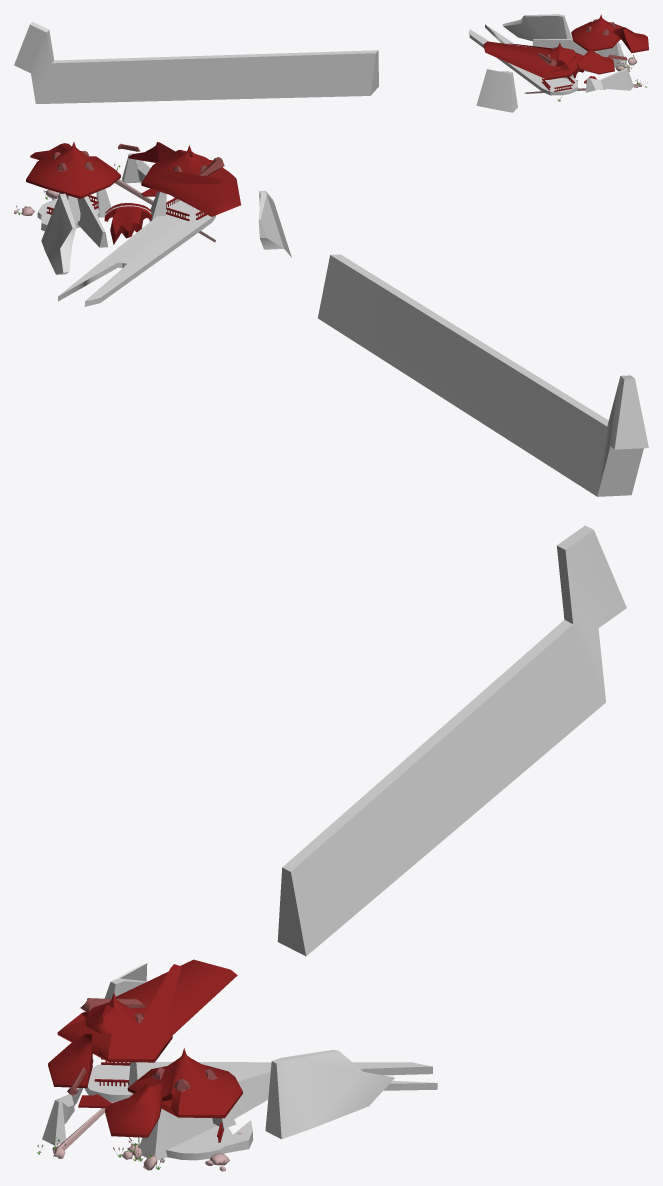
Rendered from pavilion_usethis.fbx.
The picture shows the model from 3 angles, top to bottom: view 1: azimuth 30°, elevation 25°; view 2: azimuth 150°, elevation 25°; view 3: azimuth 270°, elevation 25°; orthographic projection. The views are drawn at different scales.
Visible parts, largest first — view 1: polySurface111, polySurface288, polySurface70, polySurface108, polySurface106, polySurface290, polySurface69, polySurface109, polySurface289, polySurface291; view 2: polySurface111, polySurface106, polySurface288, polySurface290, polySurface70, polySurface108, polySurface165, polySurface69, polySurface109, polySurface289; view 3: polySurface111, polySurface288, polySurface70, polySurface290, polySurface106, polySurface69, polySurface291, polySurface66, polySurface289, polySurface109.
Boxes of the visible parts, x1,y1,x2,y2 form: polySurface111: (14, 21, 378, 103); polySurface288: (483, 41, 583, 79); polySurface70: (502, 14, 571, 41); polySurface108: (476, 69, 517, 112); polySurface106: (469, 24, 577, 95); polySurface290: (571, 14, 624, 51); polySurface69: (532, 39, 626, 67); polySurface109: (585, 68, 633, 92); polySurface289: (577, 48, 614, 74); polySurface291: (613, 27, 648, 53); polySurface111: (318, 254, 648, 496); polySurface106: (58, 199, 216, 306); polySurface288: (141, 145, 240, 216); polySurface290: (26, 142, 120, 198); polySurface70: (41, 193, 76, 274); polySurface108: (258, 190, 291, 257); polySurface165: (104, 203, 151, 244); polySurface69: (57, 193, 107, 247); polySurface109: (122, 153, 177, 199); polySurface289: (128, 142, 175, 162); polySurface111: (277, 525, 626, 956); polySurface288: (57, 959, 237, 1062); polySurface70: (265, 1050, 394, 1139); polySurface290: (127, 1048, 242, 1118); polySurface106: (84, 1062, 437, 1101); polySurface69: (139, 1070, 270, 1160); polySurface291: (105, 1082, 163, 1137); polySurface66: (166, 1120, 253, 1160); polySurface289: (48, 1034, 92, 1088); polySurface109: (42, 1088, 83, 1145).
Bounding box in the file's own units: 2022 × 315 × 992.
